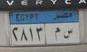1: (29, 27, 35, 42)
2: (12, 26, 19, 42)
3: (35, 27, 43, 41)
8: (20, 27, 28, 44)
meem: (53, 26, 61, 42)
seen: (62, 28, 74, 41)
